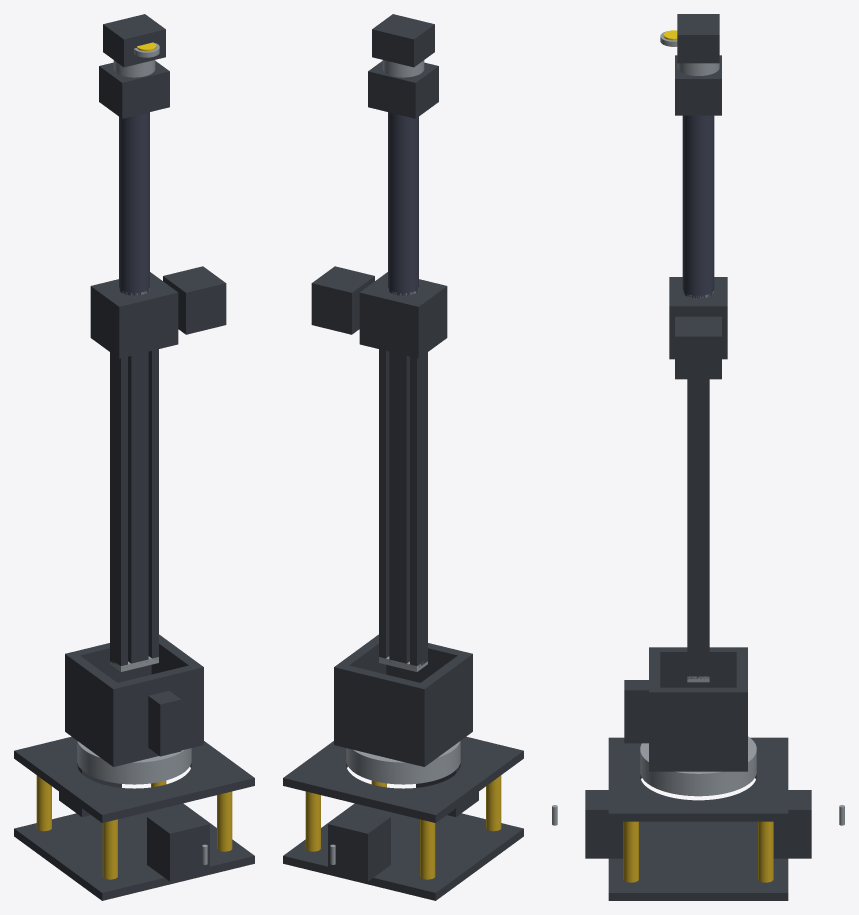
Rendered from robotic_arm_ar3.glb.
3 renders of one model, left to right at view 1: azimuth 30°, elevation 25°; view 2: azimuth 150°, elevation 25°; view 3: azimuth 270°, elevation 25°, orthographic.
Bounding box in the file's own units: 0.164 × 0.825 × 0.261.
